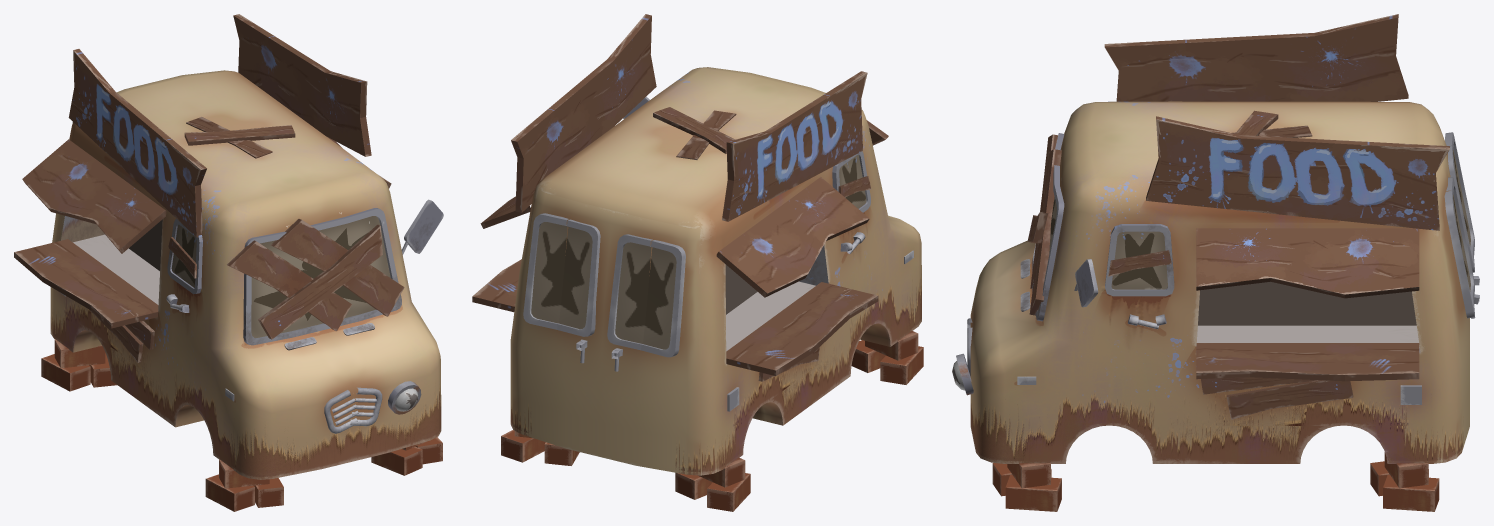
Rendered from food truck_1.fbx.
The picture shows the model from 3 angles, left to right: view 1: azimuth 30°, elevation 25°; view 2: azimuth 150°, elevation 25°; view 3: azimuth 270°, elevation 25°; orthographic projection. The views are drawn at different scales.
Parts seen in each view (by area): view 1: Cube.138, Cube.201, Cube.115, Cube.126, Cube.125, Cube.128, Cube.121, Cube.130, Cube.165, Cube.114, Cube.110, Cube.135 (+9 smaller); view 2: Cube.138, Cube.133, Cube.201, Cube.115, Cube.126, Cube.125, Cube.135, Cube.128, Cube.129, Cube.131, Cube.127; view 3: Cube.138, Cube.115, Cube.201, Cube.126, Cube.125, Cube.131, Cube.133, Cube.135, Cube.128, Cube.117, Cube.130, Cube.110 (+4 smaller).
Boxes of the visible parts, x1,y1,x2,y2 form: Cube.138: (50, 70, 441, 479); Cube.201: (68, 49, 206, 237); Cube.115: (233, 14, 371, 156); Cube.126: (22, 136, 391, 253); Cube.125: (14, 239, 158, 328); Cube.128: (205, 437, 442, 511); Cube.121: (251, 216, 390, 337); Cube.130: (270, 219, 404, 316); Cube.165: (258, 224, 382, 339); Cube.114: (227, 240, 351, 331); Cube.110: (243, 208, 401, 345); Cube.135: (41, 339, 117, 391); Cube.138: (510, 67, 921, 475); Cube.133: (523, 213, 685, 357); Cube.201: (722, 71, 867, 221); Cube.115: (511, 14, 656, 212); Cube.126: (480, 177, 869, 297); Cube.125: (472, 259, 878, 375); Cube.135: (501, 430, 750, 511); Cube.128: (851, 331, 923, 384); Cube.129: (653, 107, 735, 153); Cube.131: (832, 151, 870, 212); Cube.127: (676, 110, 736, 159); Cube.138: (970, 101, 1469, 463); Cube.115: (1146, 116, 1449, 230); Cube.201: (1104, 14, 1408, 101); Cube.126: (1196, 228, 1419, 298); Cube.125: (1196, 343, 1419, 381); Cube.131: (1105, 224, 1174, 296); Cube.133: (1444, 132, 1474, 318); Cube.135: (1370, 452, 1439, 511); Cube.128: (992, 463, 1061, 511); Cube.117: (1226, 380, 1353, 419); Cube.130: (1029, 149, 1061, 315); Cube.110: (1032, 133, 1064, 321).
Size of the model in its own units: 2.65 by 2.86 by 3.57.
